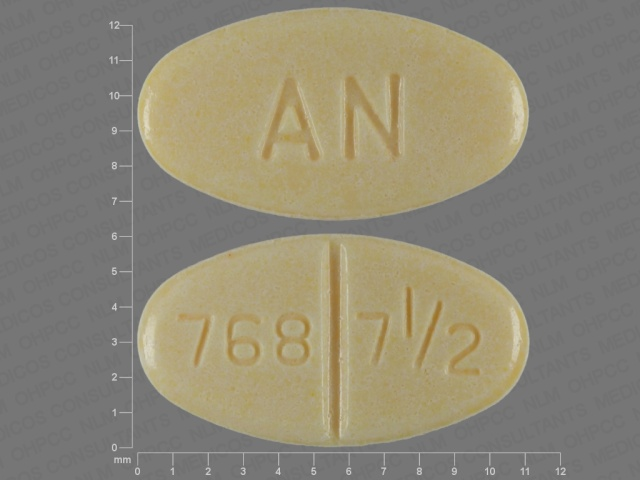1/2: (400, 281, 485, 386)
6: (222, 309, 266, 369)
7: (172, 305, 215, 374), (351, 308, 395, 370)
8: (272, 312, 315, 369)
A: (259, 74, 327, 168)
N: (338, 68, 414, 167)
|: (316, 229, 355, 451)
